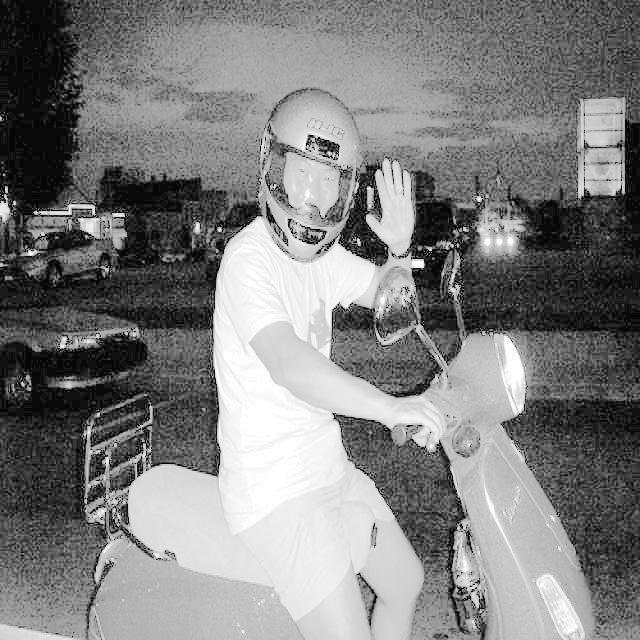Motorcycle: (87, 343, 577, 640)
